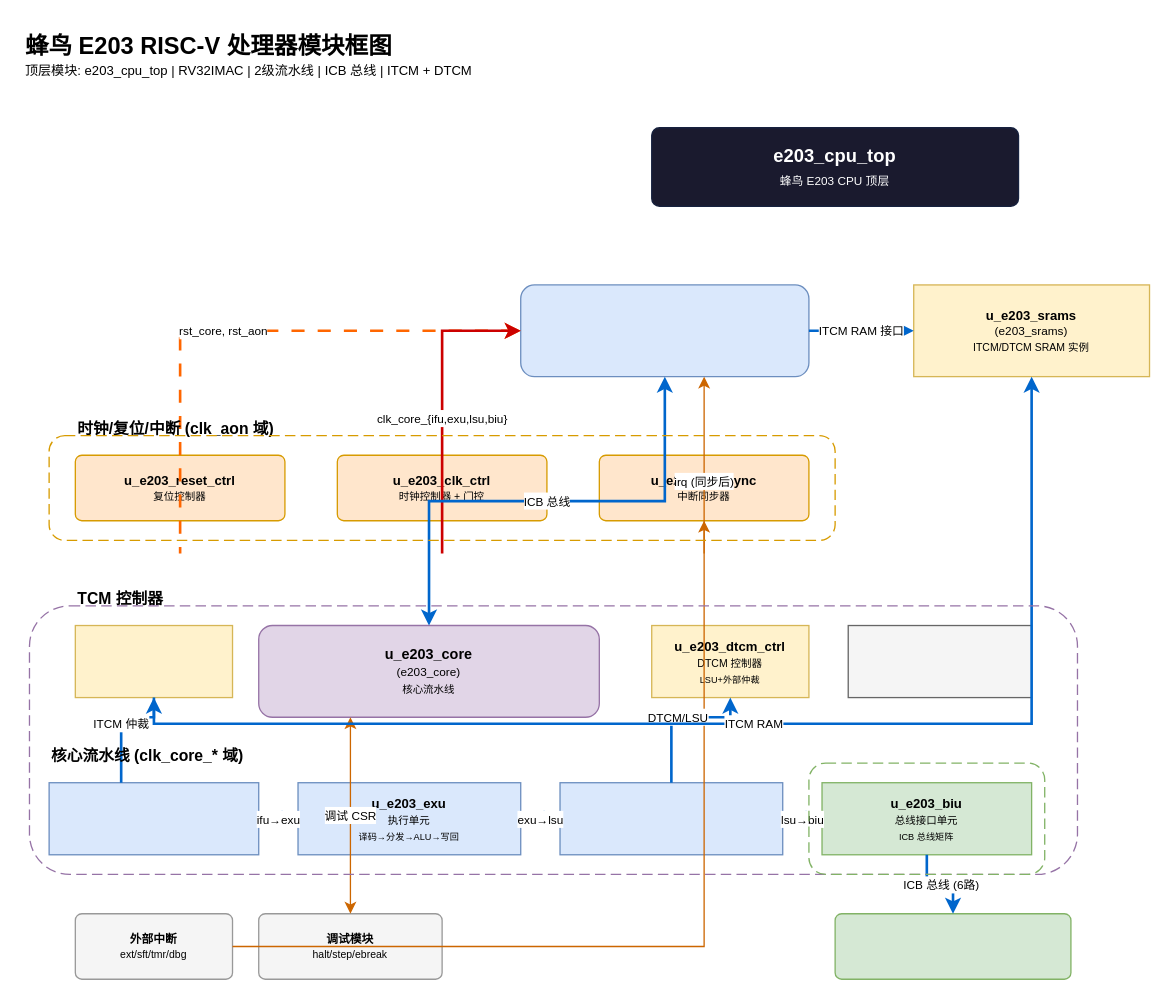
Image size: 1172x1002. Some labels were removed from this diagram. The box of each missing label's shape, as (x1, y1, x2, y2) in pixels:
u_e203_cpu (e203_cpu) CPU 主模块: (519, 284, 809, 377)
u_e203_extend_csr 扩展 CSR (EAI): (847, 624, 1032, 698)
u_e203_ifu 取指单元 IFETCH + Mini-Decode + BPU: (48, 781, 259, 855)
u_e203_itcm_ctrl ITCM 控制器 IFU+LSU 仲裁: (74, 624, 233, 698)
u_e203_lsu 访存单元 AGU → BIU/DTCM/ITCM: (559, 781, 783, 855)
外部总线 PPI/PLIC/CLINT/FIO/MEM: (834, 912, 1071, 979)
